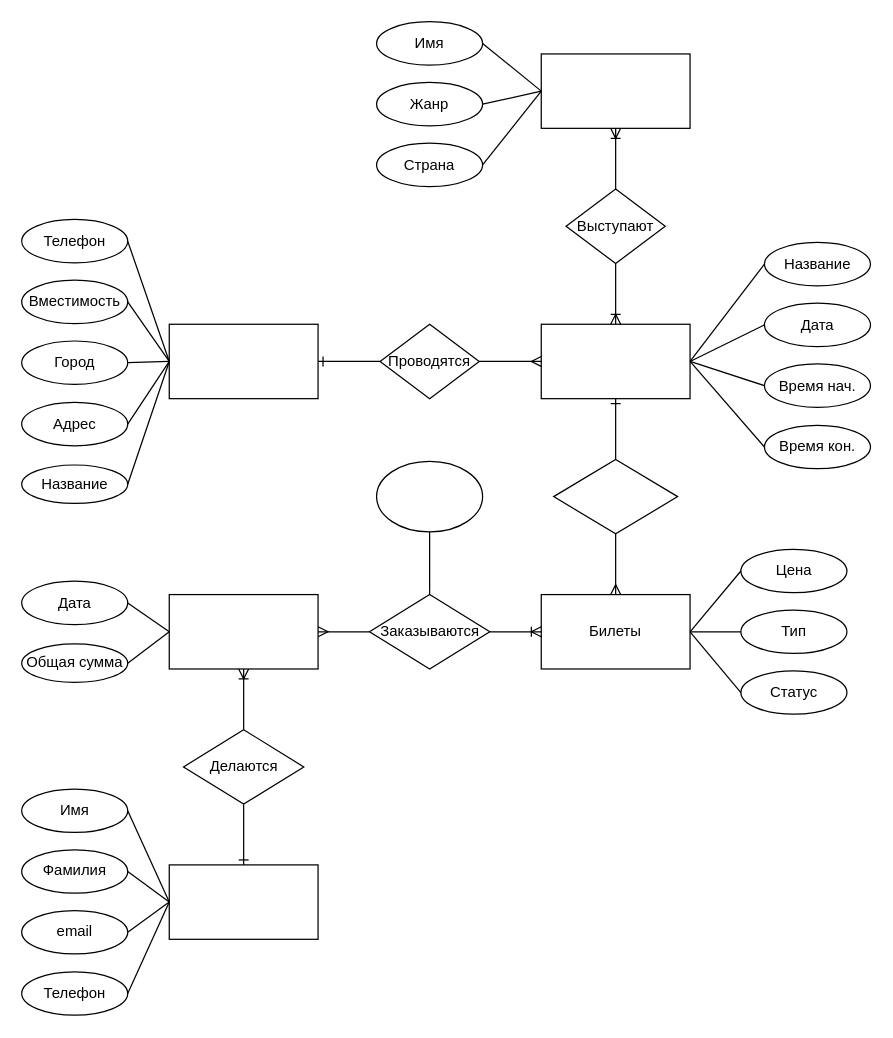
The diagram is 893 pixels wide and 1038 high, and some of its shapes have lost their labels. Each missing label, with the centre of its shape:
Дает доступ к: pixel 615 496
Заказы: pixel 243 631
Исполнители: pixel 615 90
Количество: pixel 429 496
Концертные площадки: pixel 243 361
Мероприятия: pixel 615 361
Покупатели: pixel 243 901
